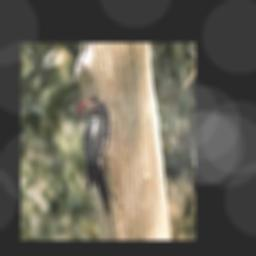Woodpecker: (77, 100, 111, 214)
